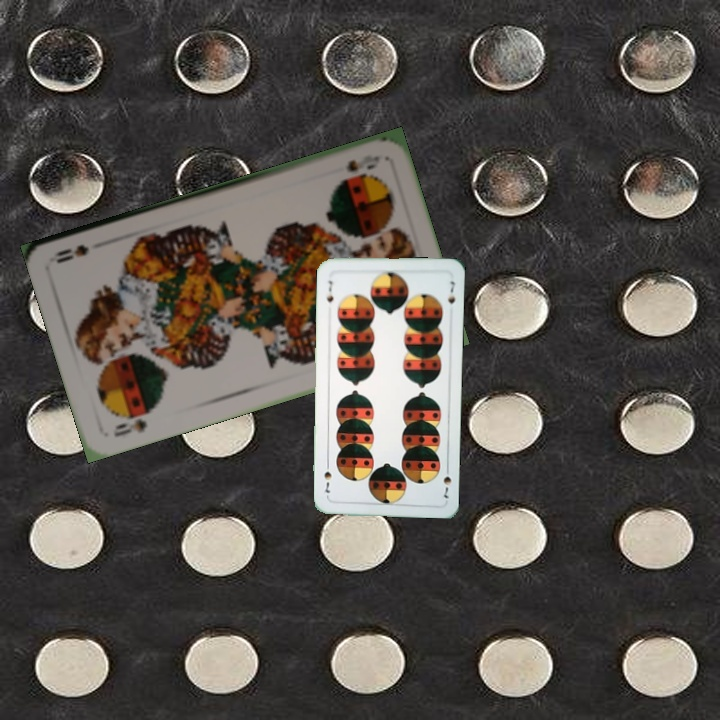S7: (439, 462, 454, 501), (323, 276, 336, 305)
SO: (110, 407, 154, 440), (342, 151, 382, 175)
